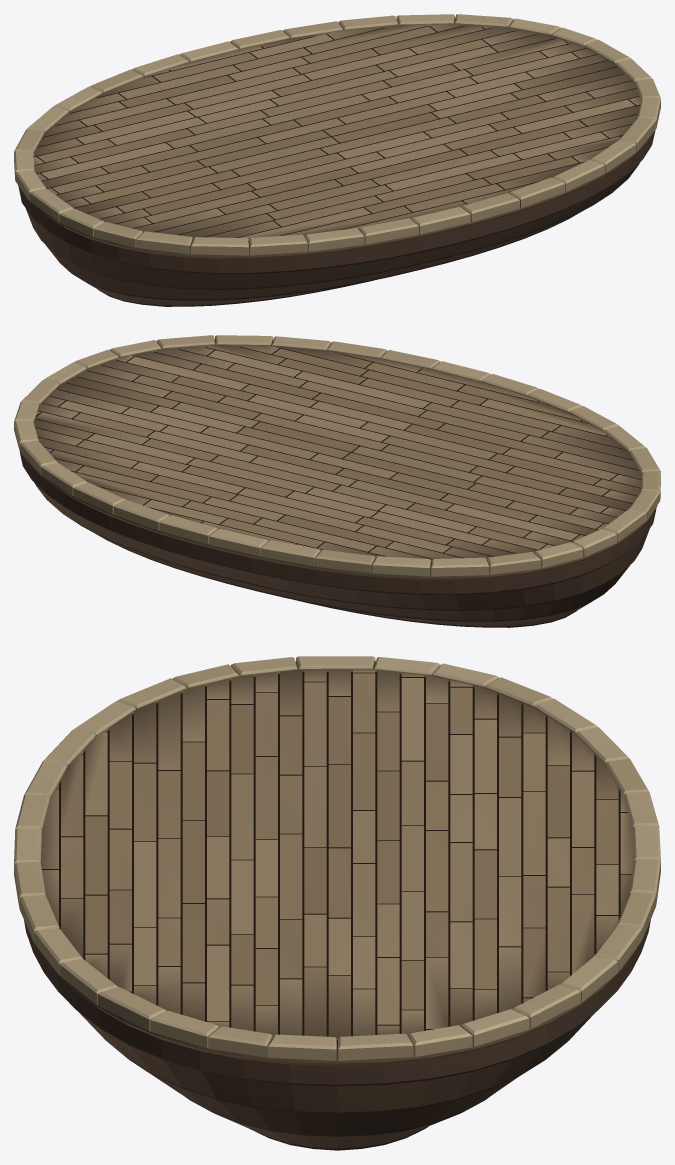
The model's file is plateau_pont.glb.
3 views of the same model, one above another, from view 1: azimuth 30°, elevation 25°; view 2: azimuth 150°, elevation 25°; view 3: azimuth 270°, elevation 25° (orthographic). The views are drawn at different scales.
Parts seen in each view (by area): view 1: plateau_pont; view 2: plateau_pont; view 3: plateau_pont.
Part boxes in pixels (x1,y1,x2,y2): plateau_pont: [14, 14, 660, 306]; plateau_pont: [14, 335, 660, 627]; plateau_pont: [14, 656, 660, 1150].
Size of the model in its own units: 19.06 by 4.37 by 13.29.
